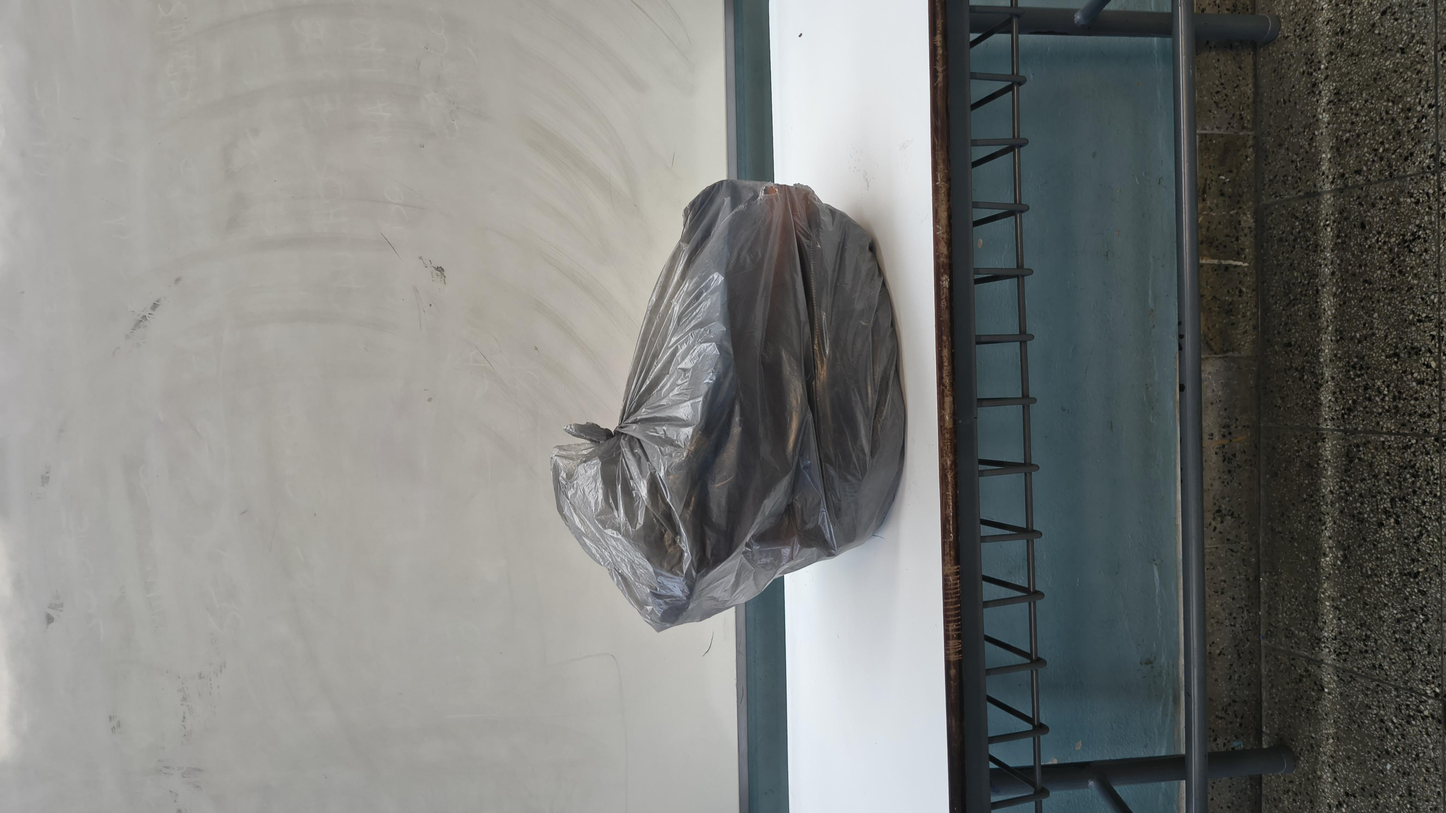Garbage: (220, 280, 1280, 558)
